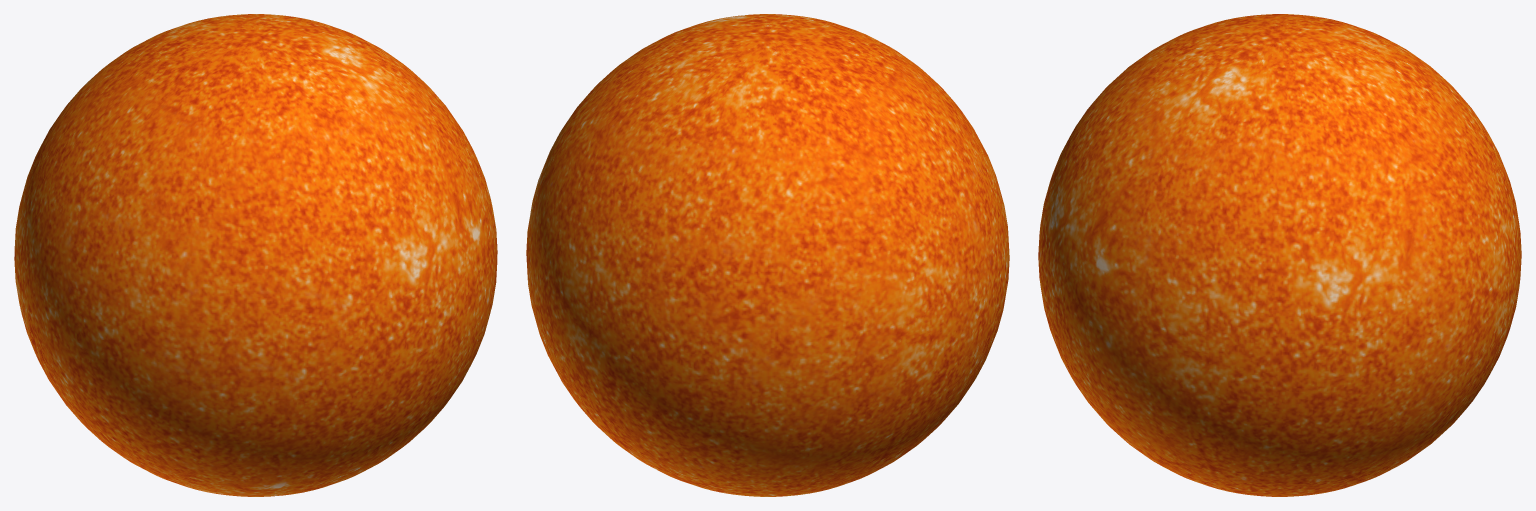
Rendered from sun.glb.
3 renders of one model, left to right at view 1: azimuth 30°, elevation 25°; view 2: azimuth 150°, elevation 25°; view 3: azimuth 270°, elevation 25°, orthographic.
Visible parts, largest first — view 1: Surface; view 2: Surface; view 3: Surface.
Part boxes in pixels (x1,y1,x2,y2): Surface: (14, 14, 497, 496); Surface: (526, 14, 1009, 496); Surface: (1038, 14, 1521, 496).
Size of the model in its own units: 2 by 2 by 2.
Materials: 1 (1 with a texture image).
